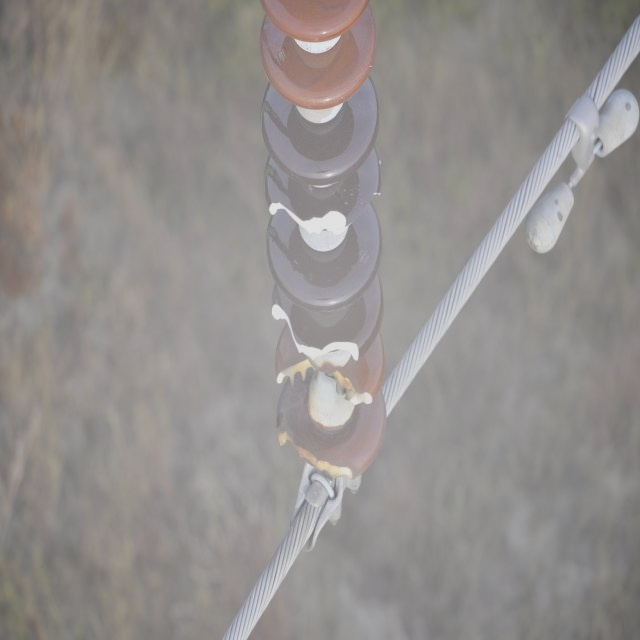broken: (272, 303, 360, 367), (274, 364, 375, 411), (278, 427, 356, 480), (269, 200, 348, 237)
insulator: (257, 0, 388, 477)
